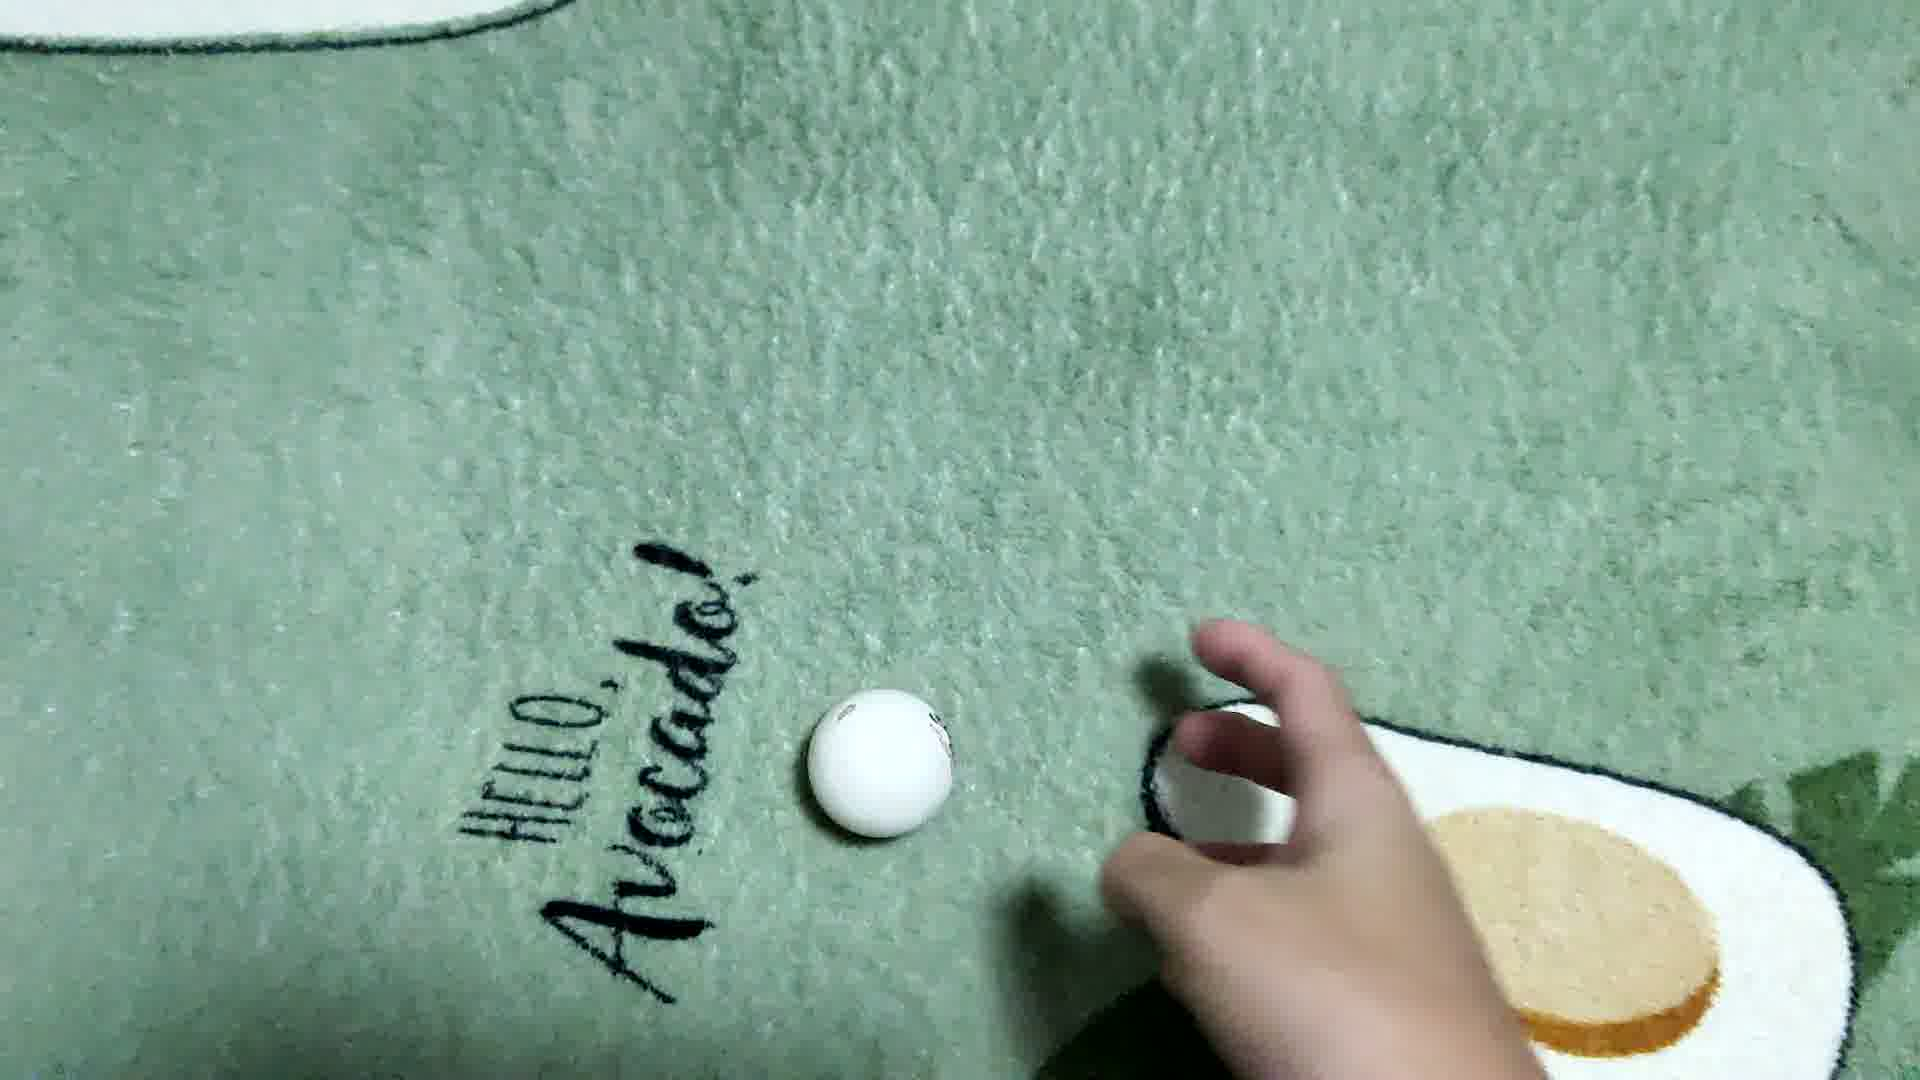Ball: (806, 690, 956, 837)
